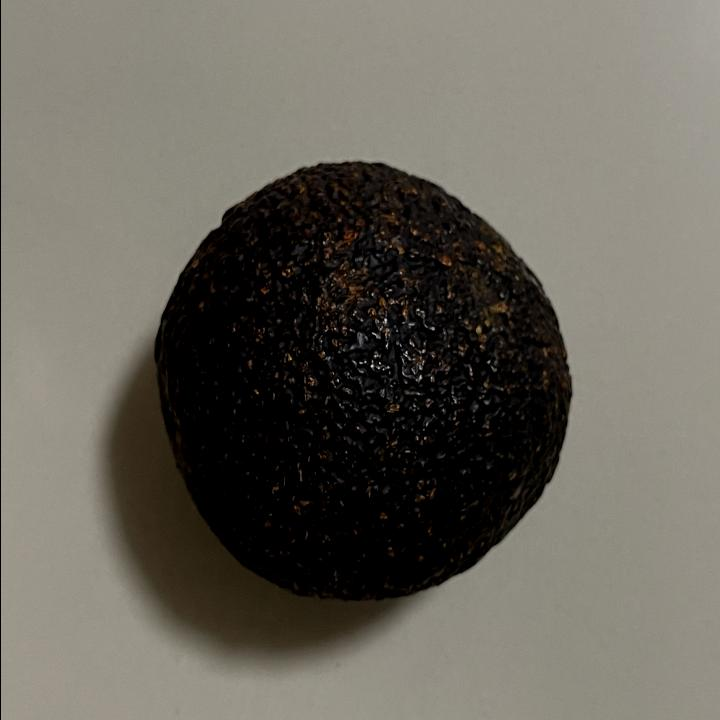Level2: (146, 154, 582, 608)
